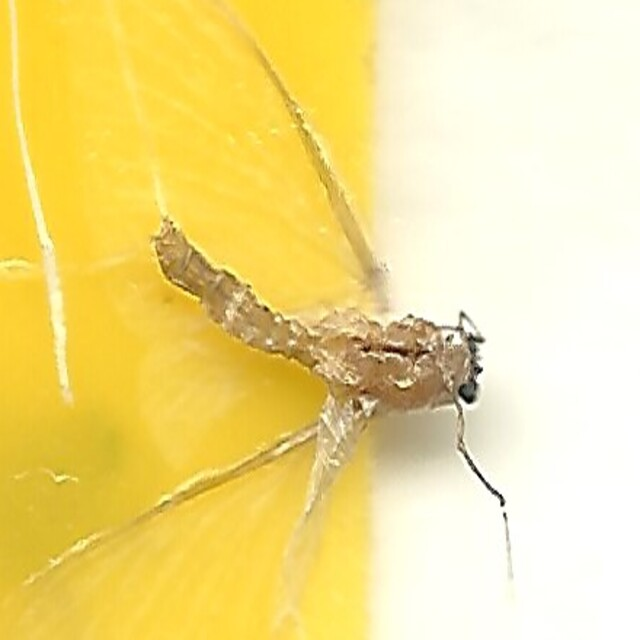Ephemeroptera: (145, 205, 495, 435)
